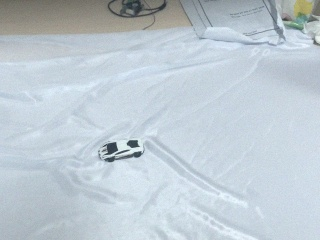toy_car: (98, 139, 144, 162)
